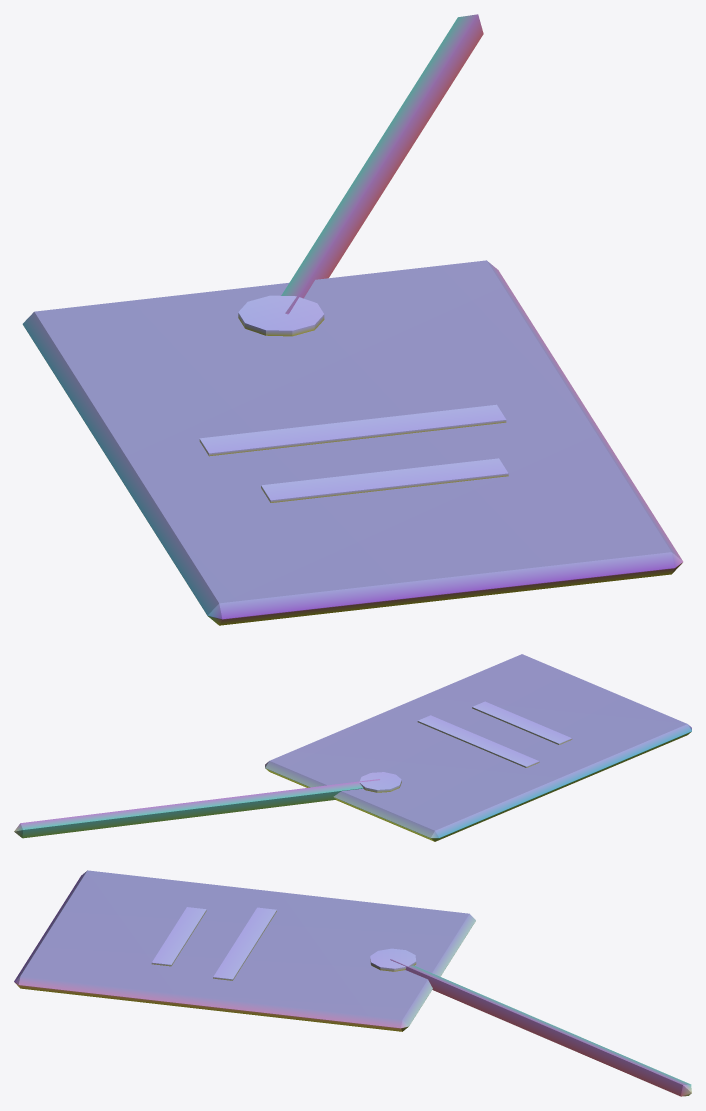
File: env_deco_tag.glb
The picture shows the model from 3 angles, top to bottom: view 1: azimuth 30°, elevation 25°; view 2: azimuth 150°, elevation 25°; view 3: azimuth 270°, elevation 25°; orthographic projection. The views are drawn at different scales.
Parts seen in each view (by area): view 1: env_deco_tag_mesh; view 2: env_deco_tag_mesh; view 3: env_deco_tag_mesh.
Part boxes in pixels (left/top/right/bottom): env_deco_tag_mesh: left=22, top=14, right=683, bottom=625; env_deco_tag_mesh: left=14, top=654, right=691, bottom=841; env_deco_tag_mesh: left=14, top=870, right=691, bottom=1096.
Bounding box in the file's own units: 0.3044 × 0.0107 × 0.3979.
